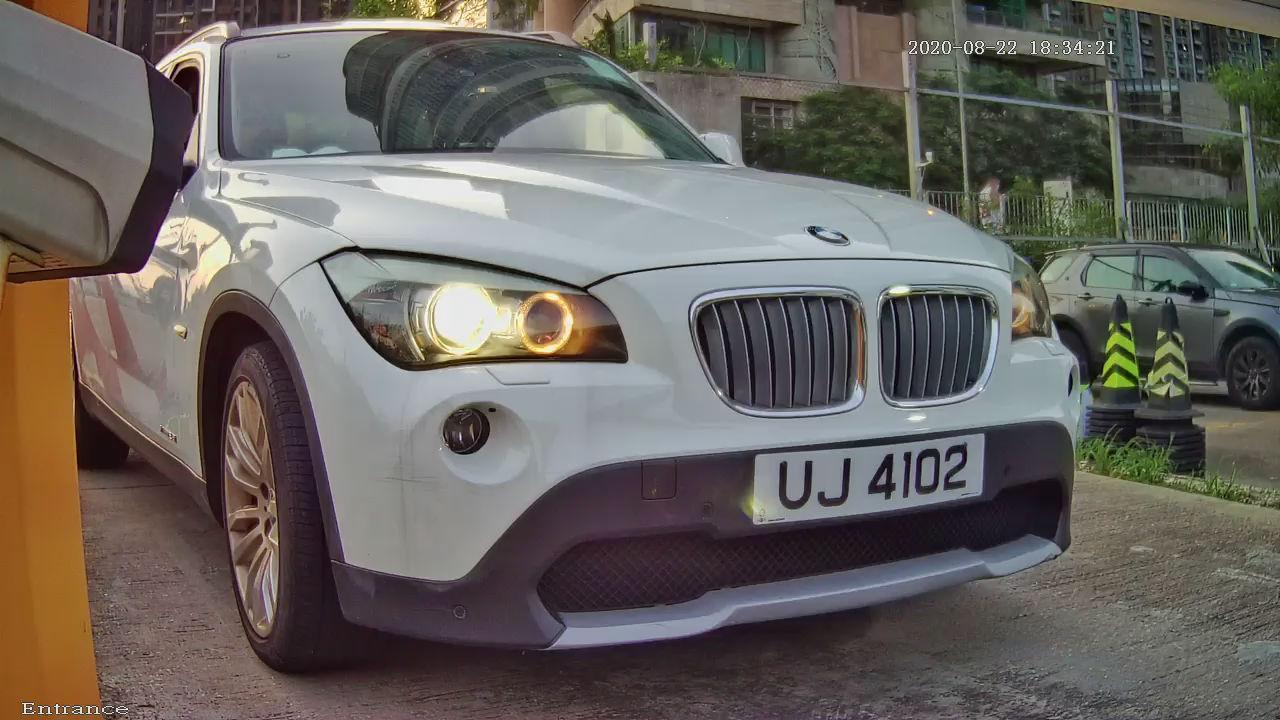Car: (35, 1, 1189, 704)
License Plate: (732, 422, 1006, 531)
